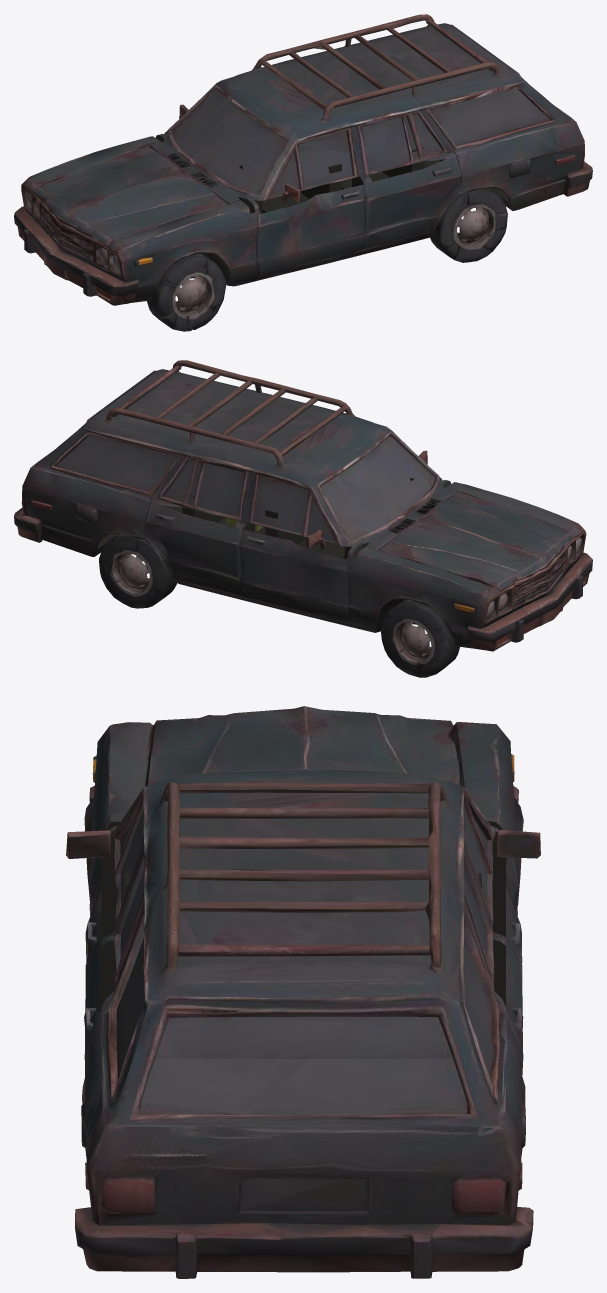
The model's file is car_station_wagon_b.glb.
3 renders of one model, top to bottom at view 1: azimuth 30°, elevation 25°; view 2: azimuth 150°, elevation 25°; view 3: azimuth 270°, elevation 25°, orthographic. The views are drawn at different scales.
Parts seen in each view (by area): view 1: body, hood, door_front_1, door_front_2, wheel_3, wheel_1, tailgate, door_back_1; view 2: body, hood, door_back_1, door_back_2, wheel_4, wheel_2, tailgate, door_front_1; view 3: body, tailgate, hood, door_front_1, door_back_1, door_front_2, door_back_2.
Boxes of the visible parts, x1,y1,x2,y2 form: body: (14,14,592,305); hood: (29,137,245,247); door_front_1: (244,127,371,274); door_front_2: (357,105,460,247); wheel_3: (430,188,507,262); wheel_1: (147,253,226,331); tailgate: (539,93,592,178); door_back_1: (155,84,216,142); body: (14,360,592,651); hood: (361,483,577,593); door_back_1: (235,473,362,620); door_back_2: (146,451,249,593); wheel_4: (99,534,176,608); wheel_2: (380,600,459,677); tailgate: (14,439,67,523); door_front_1: (391,430,451,487); body: (75,722,532,1278); tailgate: (75,1050,533,1241); hood: (98,706,509,830); door_front_1: (66,786,146,967); door_back_1: (464,787,540,967); door_front_2: (83,850,144,1085); door_back_2: (464,850,523,1052).
Bounding box in the file's own units: 4.8 × 1.66 × 1.99.
7 materials, 4 textured.
